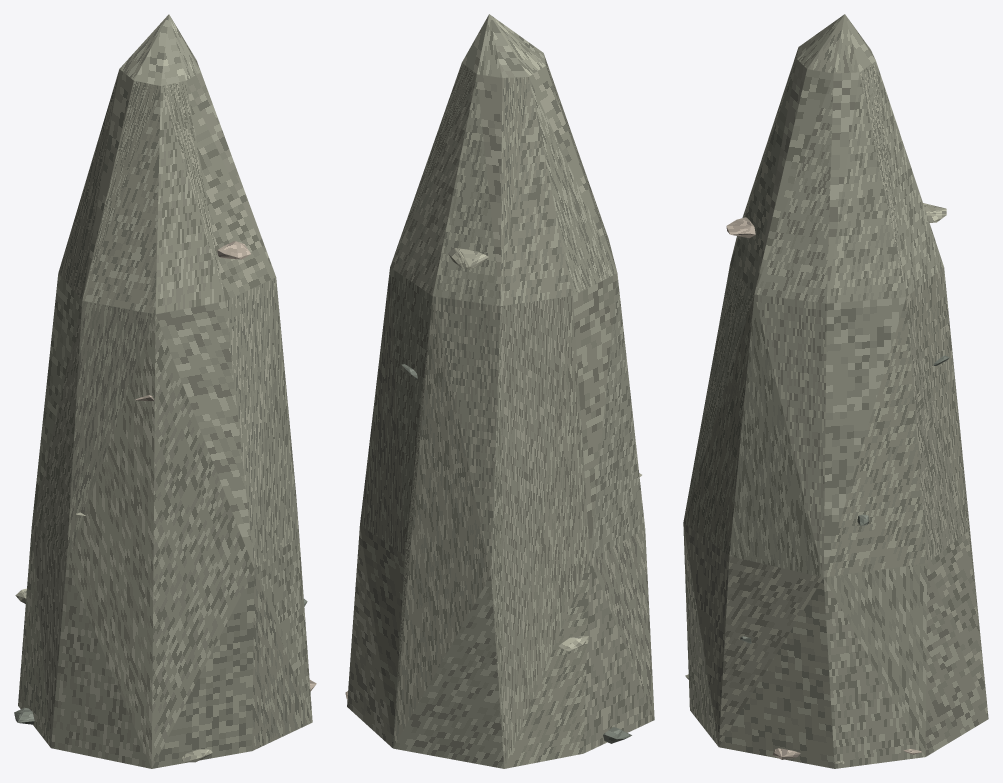
The model's file is f_pebble_mound_tall.glb.
3 views of the same model, side by side, from view 1: azimuth 30°, elevation 25°; view 2: azimuth 150°, elevation 25°; view 3: azimuth 270°, elevation 25° (orthographic).
Parts seen in each view (by area): view 1: block_heaped-pebble; view 2: block_heaped-pebble, block_loose-pebble; view 3: block_heaped-pebble.
Part boxes in pixels (x1,y1,x2,y2): block_heaped-pebble: (18,14,312,768); block_heaped-pebble: (347,14,654,768); block_loose-pebble: (448,248,488,268); block_heaped-pebble: (683,14,988,768).
Bounding box in the file's own units: 0.8801 × 2.1 × 0.8385.
1 material, 1 textured.
